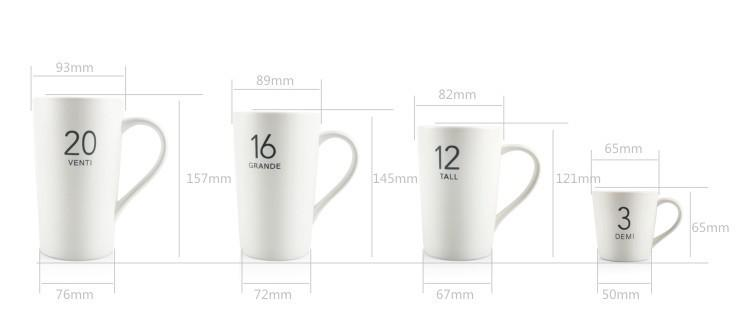cup: (30, 91, 167, 261), (229, 106, 359, 261), (414, 121, 542, 261), (589, 185, 684, 264)
